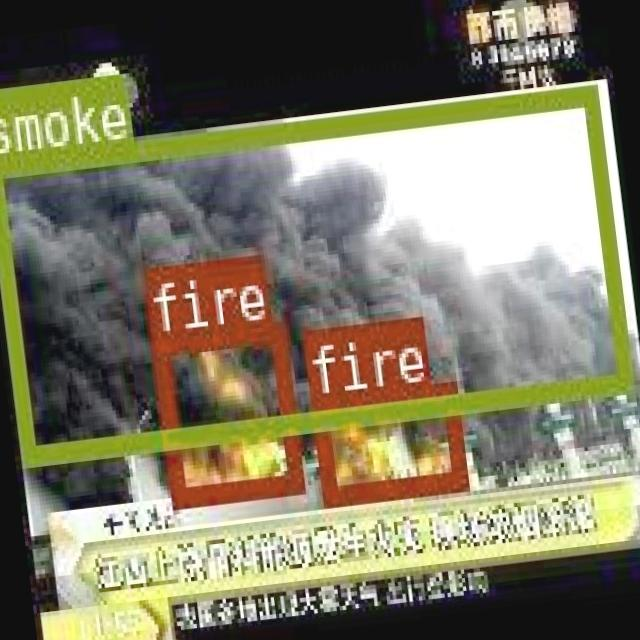fire: (150, 316, 300, 505), (308, 379, 464, 504)
smoke: (0, 80, 630, 461)
